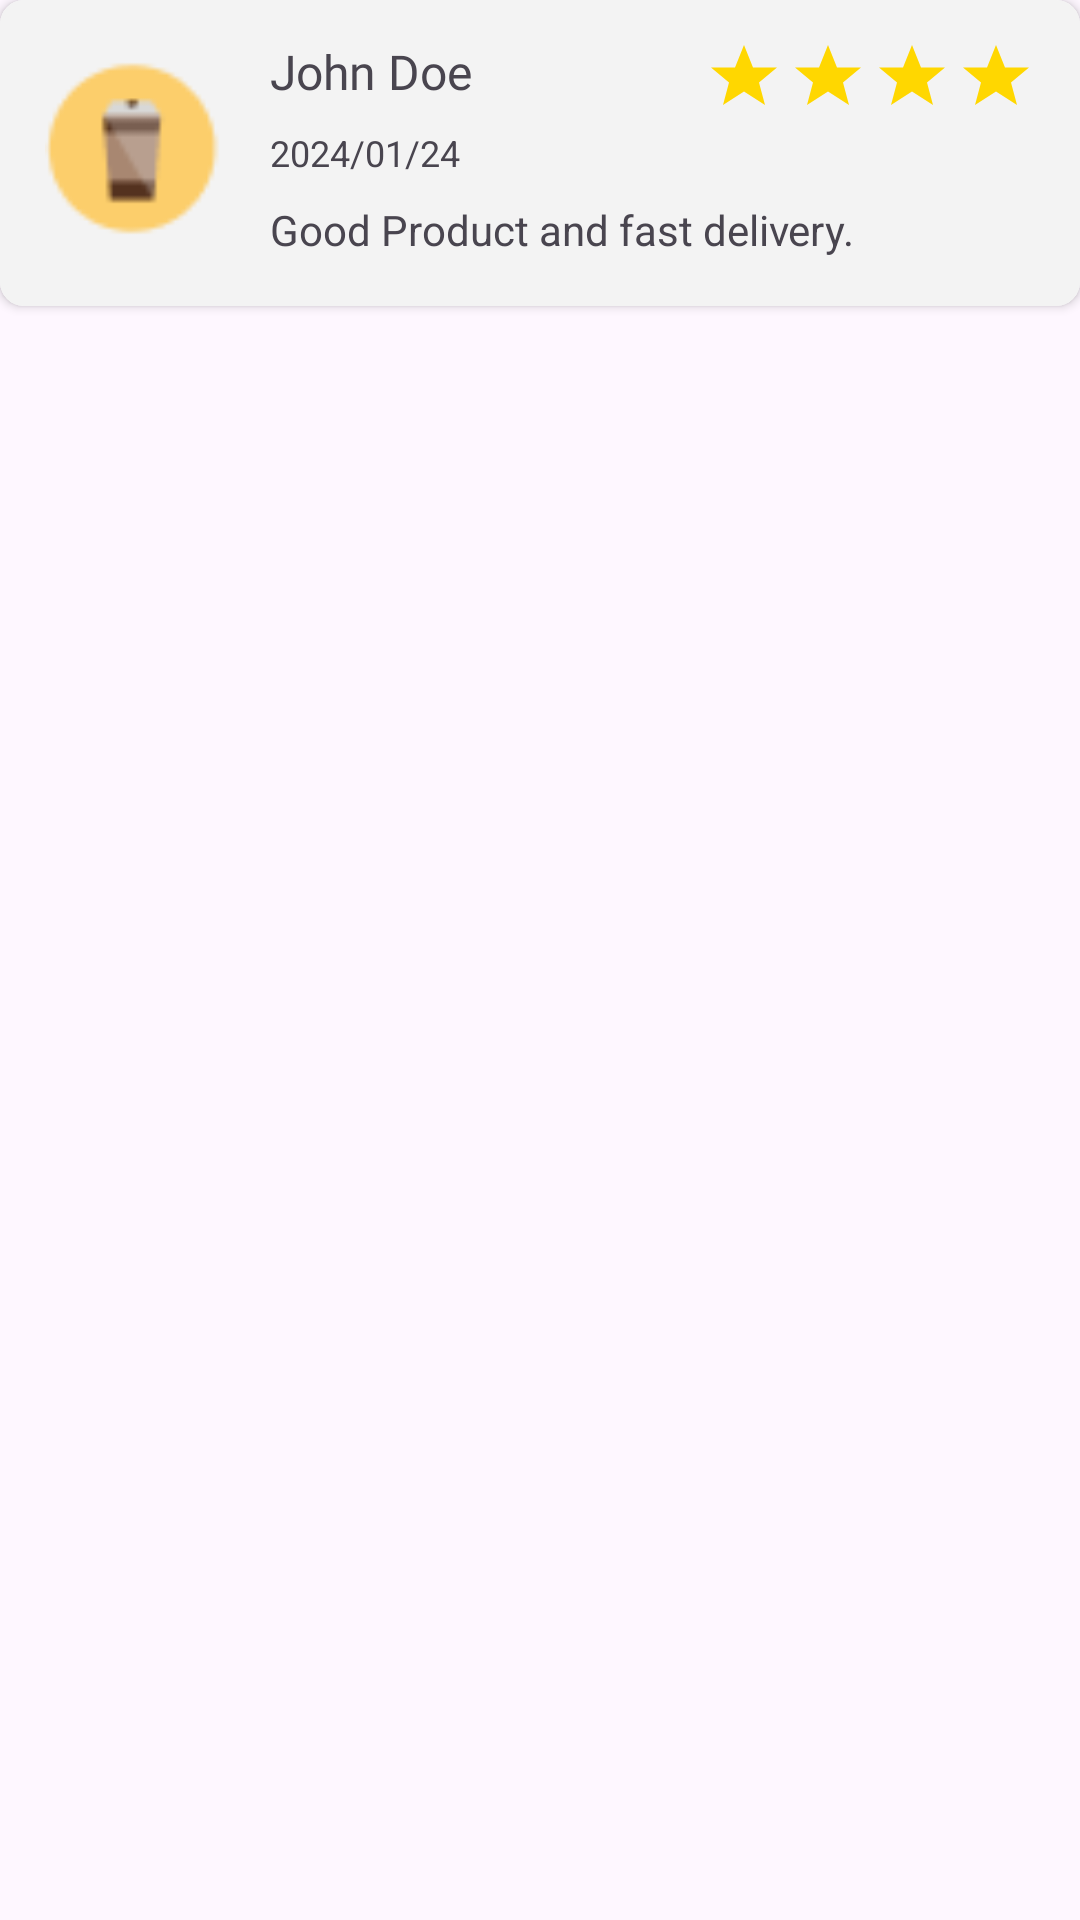

Screen size 1080×1920. Icon name, then its box in pixels as (x1, y1, x2, y2):
star shape: (711, 45, 777, 105), (795, 45, 861, 105), (879, 45, 945, 105), (963, 45, 1029, 105)
